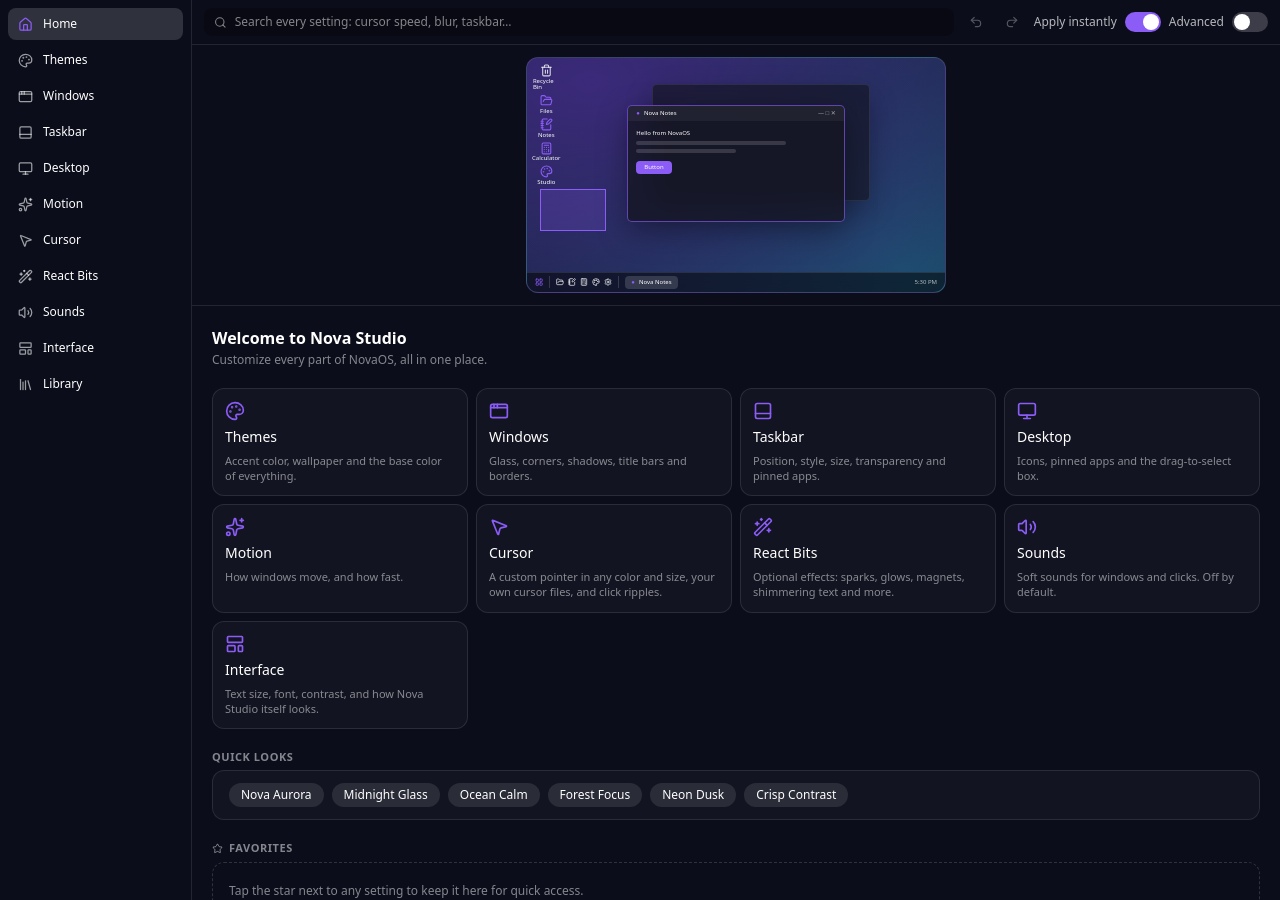
Test: Nova Studio shell › Home tiles open their studio
The width and height of the screenshot is (1280, 900).
Click the button named "Open Cursor Studio": click(604, 558) [476, 504, 732, 613]
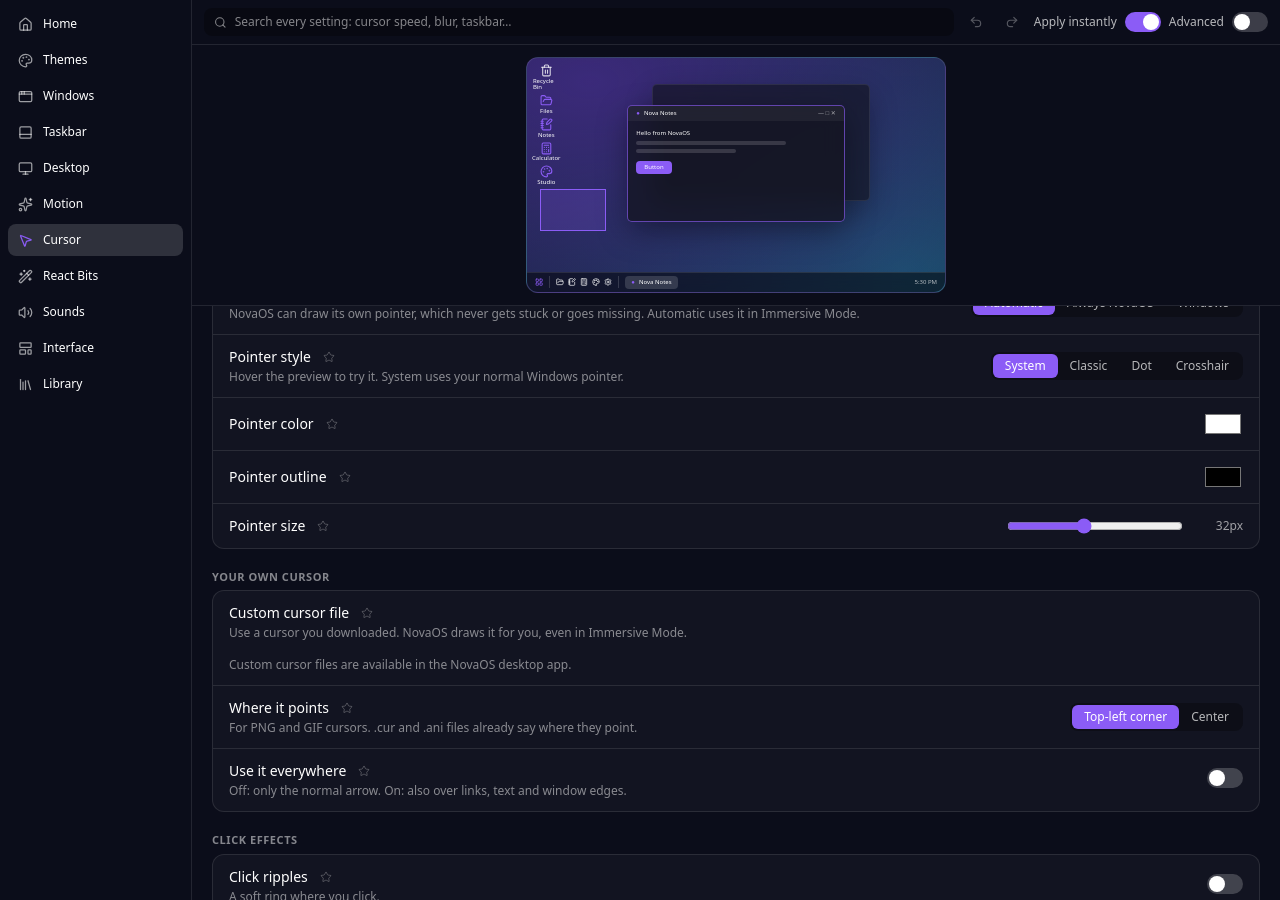
Expected: the element "Cursor Studio" is shown, [212, 306, 1260, 899]
